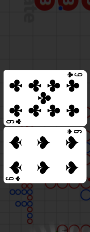4C: (6, 117, 23, 125)
6C: (5, 175, 22, 182)
